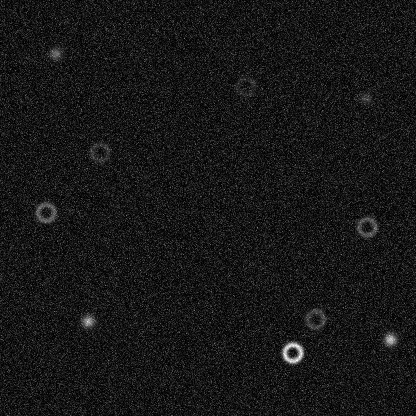Ring: (87, 140, 111, 164), (280, 340, 304, 364), (354, 214, 378, 238), (233, 74, 257, 98), (33, 200, 57, 224), (303, 306, 327, 330)
Spot: (79, 313, 95, 329), (47, 45, 63, 61), (382, 331, 398, 347), (357, 90, 373, 106)
